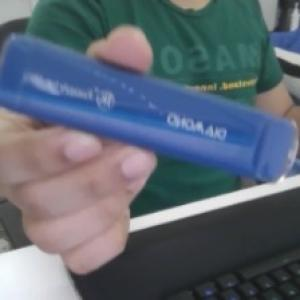Diamond-E-Ciggirate: (0, 32, 300, 185)
